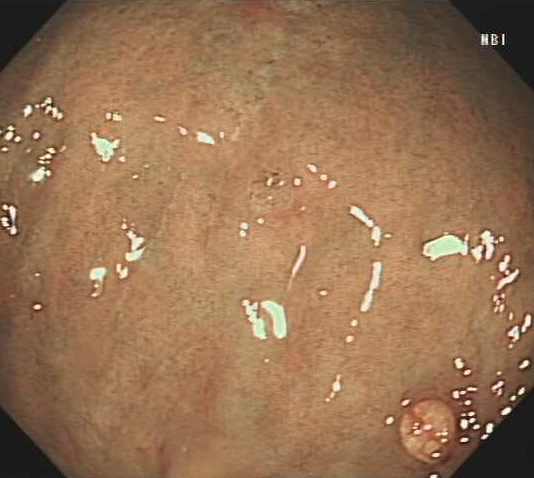others: (396, 396, 459, 468)
